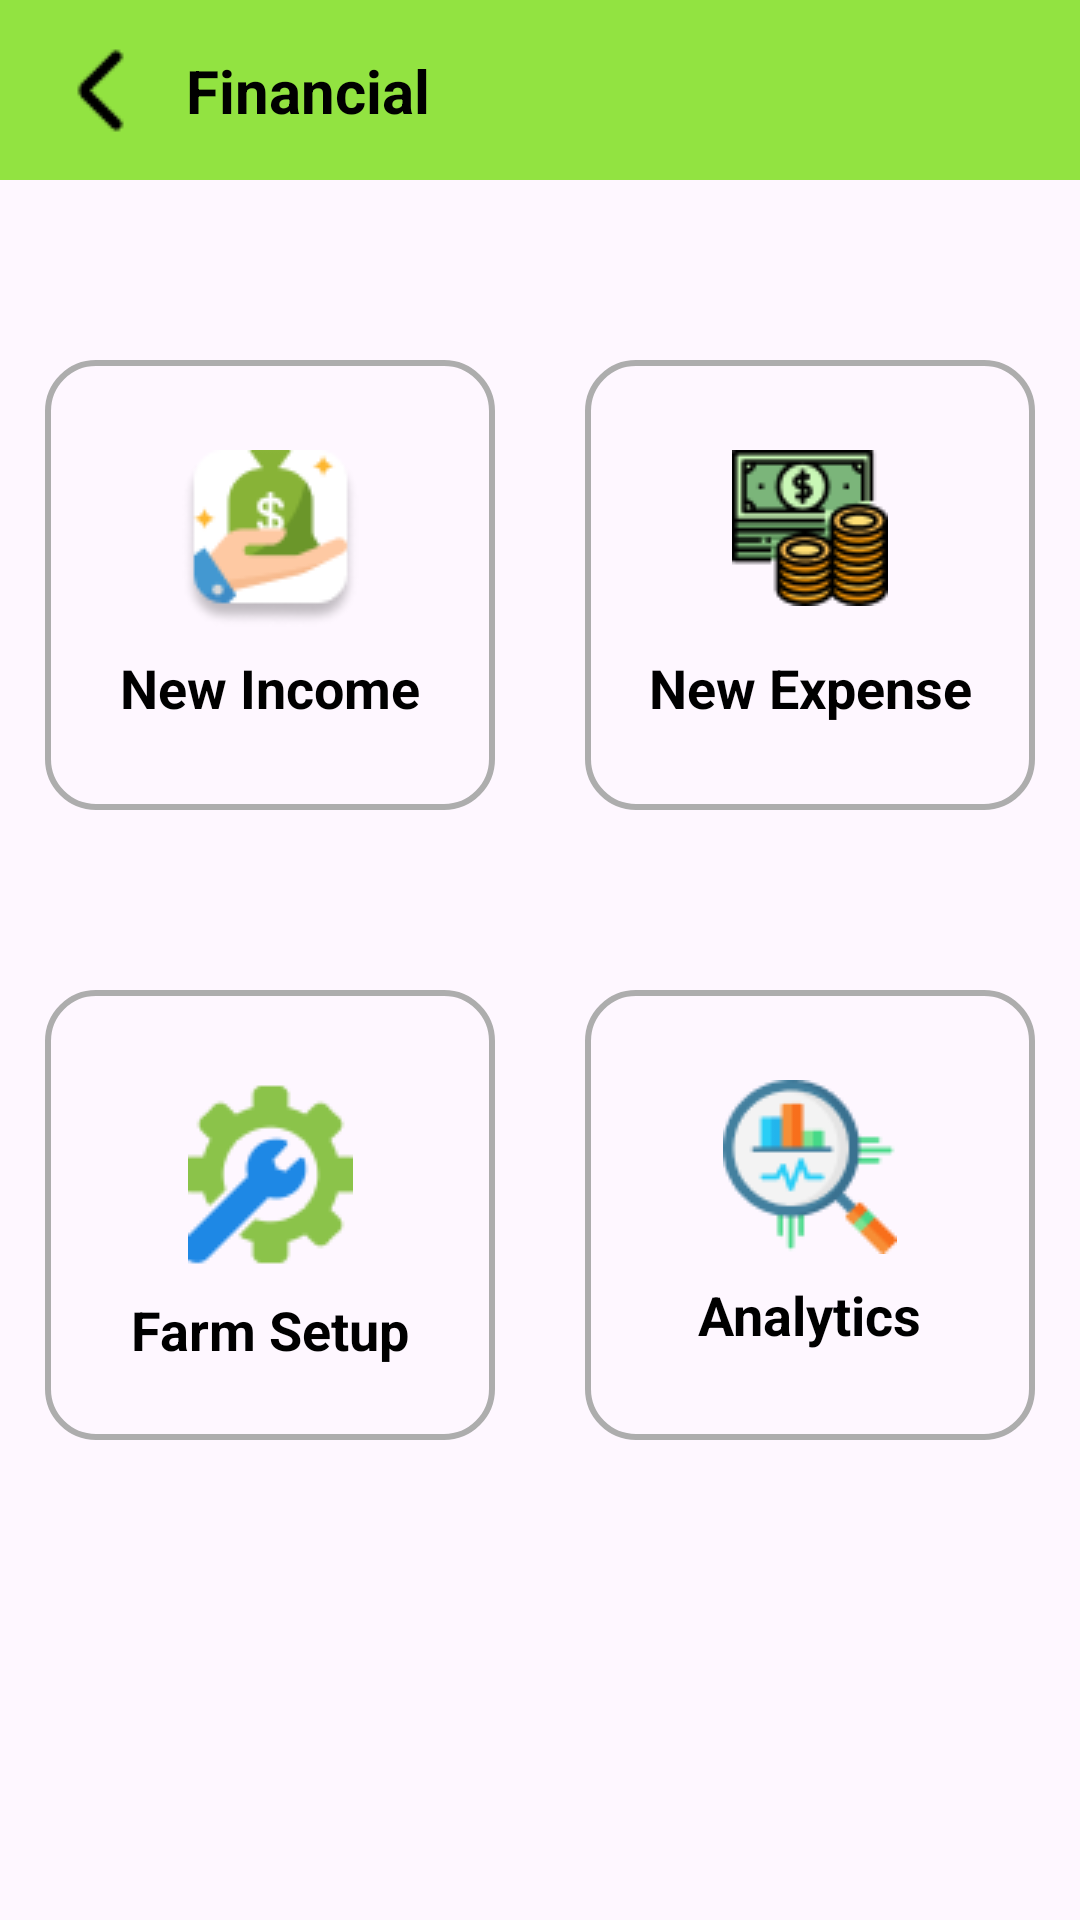

Icons on this 1080 × 1920 Android screen, each with its box as box(x1, y1, x2, y2):
back arrow: box(77, 49, 124, 132)
